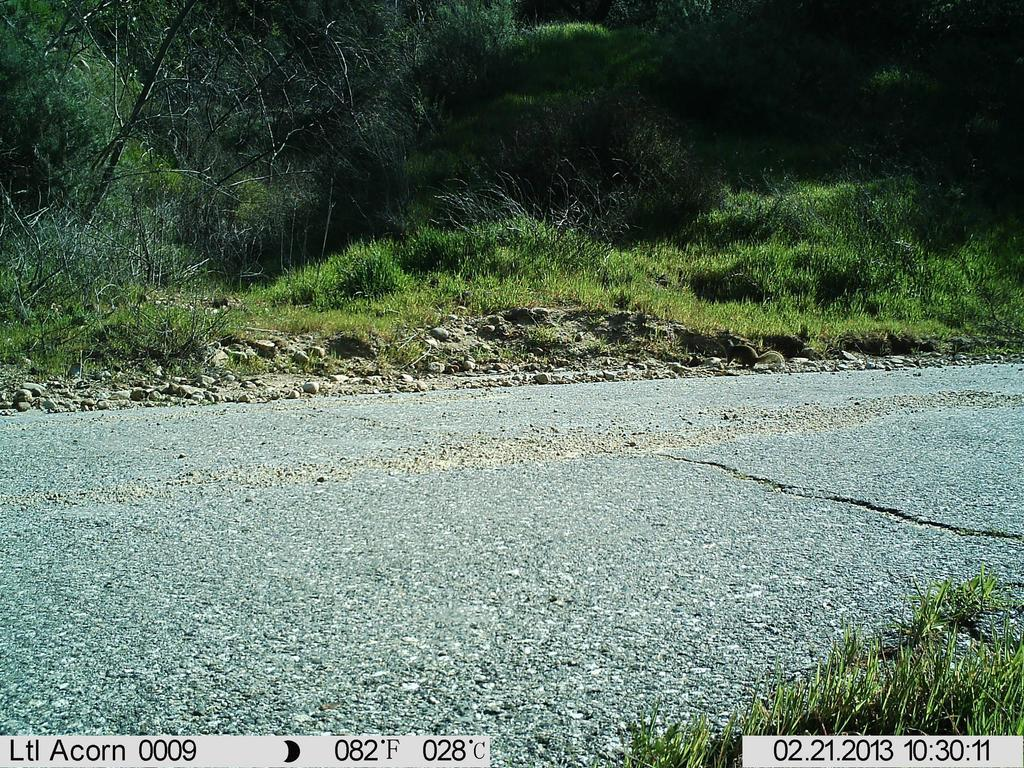squirrel: (711, 334, 793, 379)
